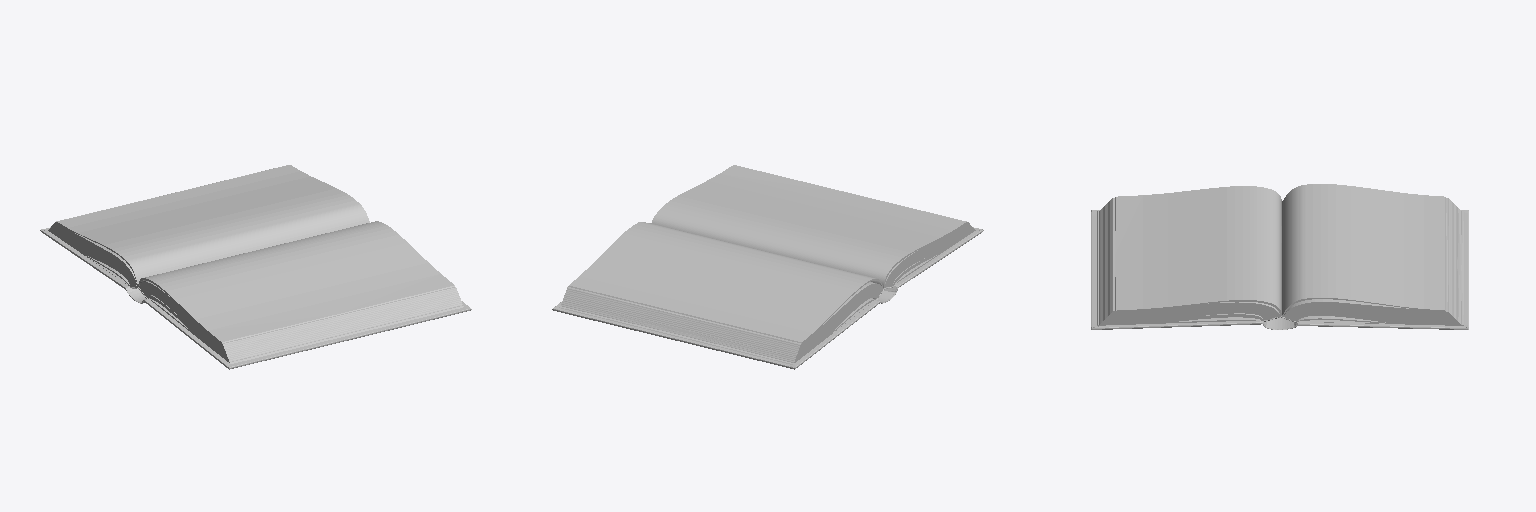
The picture shows the model from 3 angles: view 1: azimuth 30°, elevation 25°; view 2: azimuth 150°, elevation 25°; view 3: azimuth 270°, elevation 25°; orthographic projection.
Parts seen in each view (by area): view 1: qingmo_f01050c0_47b1_46e7_9a45_0fd287ede8a1; view 2: qingmo_f01050c0_47b1_46e7_9a45_0fd287ede8a1; view 3: qingmo_f01050c0_47b1_46e7_9a45_0fd287ede8a1.
Part boxes in pixels (x1,y1,x2,y2): qingmo_f01050c0_47b1_46e7_9a45_0fd287ede8a1: (40, 165, 471, 369); qingmo_f01050c0_47b1_46e7_9a45_0fd287ede8a1: (552, 165, 983, 369); qingmo_f01050c0_47b1_46e7_9a45_0fd287ede8a1: (1091, 184, 1468, 329).
Bounding box in the file's own units: 26 × 3.11 × 35.01.